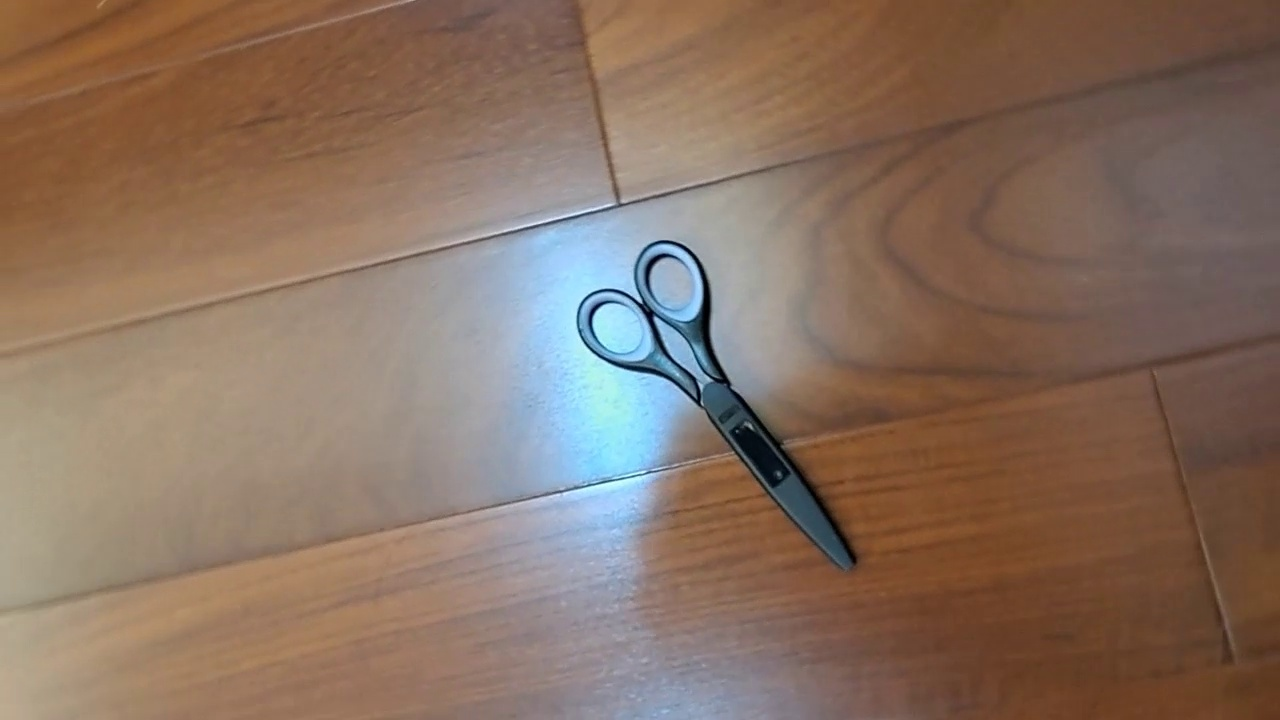scissors: (576, 239, 859, 574)
